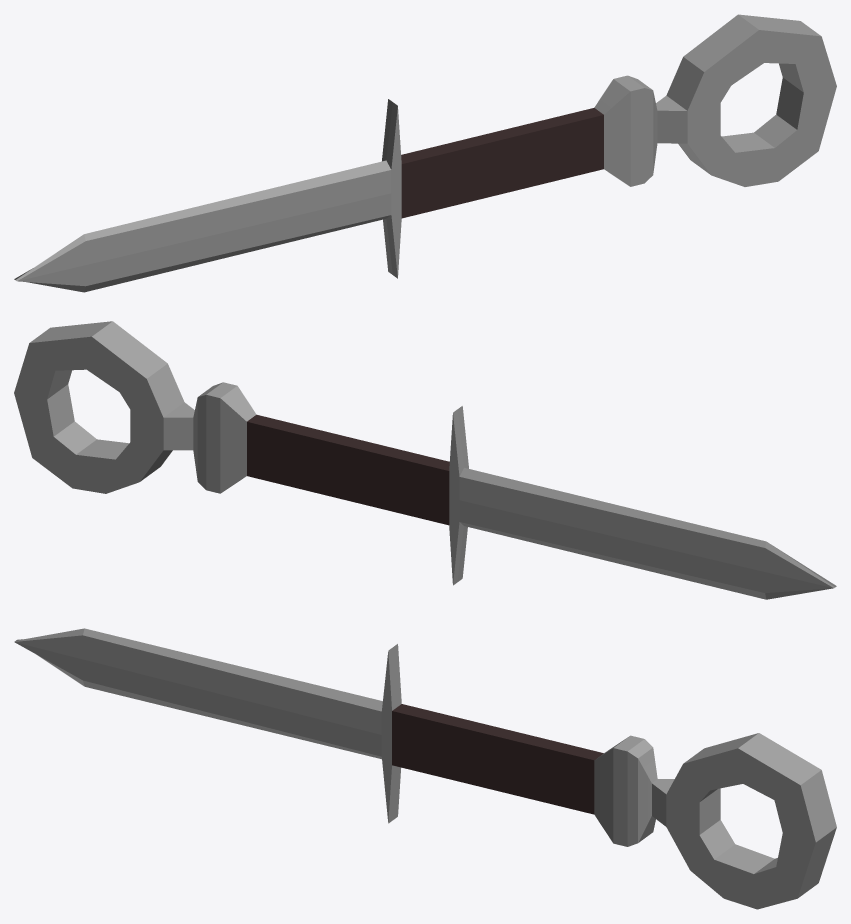
File: Shuriken_4.fbx
3 renders of one model, top to bottom at view 1: azimuth 30°, elevation 25°; view 2: azimuth 150°, elevation 25°; view 3: azimuth 330°, elevation 25°, orthographic.
Parts seen in each view (by area): view 1: Plane.001; view 2: Plane.001; view 3: Plane.001.
Boxes of the visible parts, x1,y1,x2,y2 form: Plane.001: [14, 14, 836, 292]; Plane.001: [14, 321, 836, 599]; Plane.001: [14, 628, 836, 909].
Bounding box in the file's own units: 32.32 × 6.59 × 1.46.
